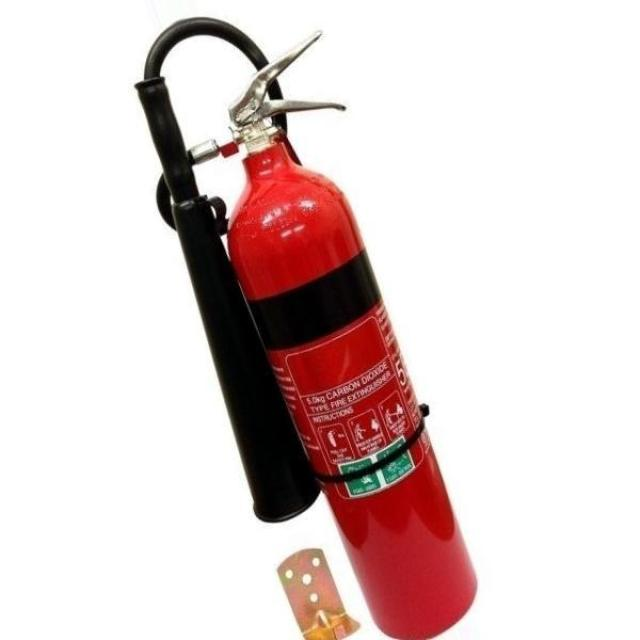fire_extinguisher: (125, 10, 487, 639)
